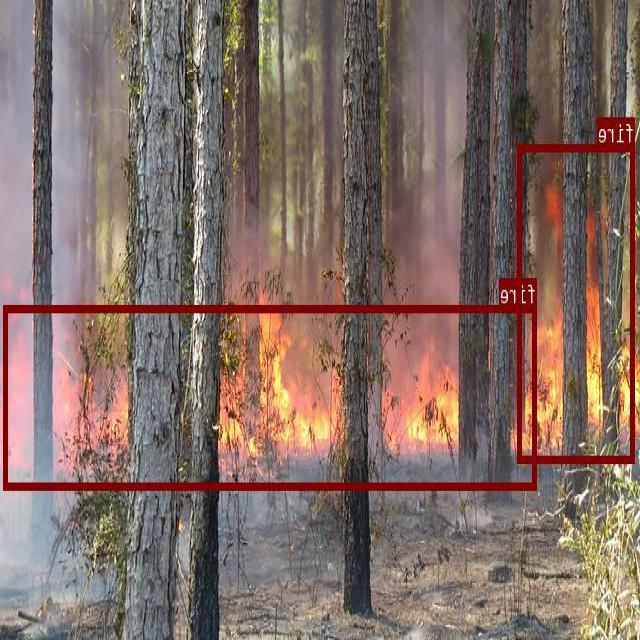fire: (5, 304, 538, 489), (519, 143, 636, 462)
